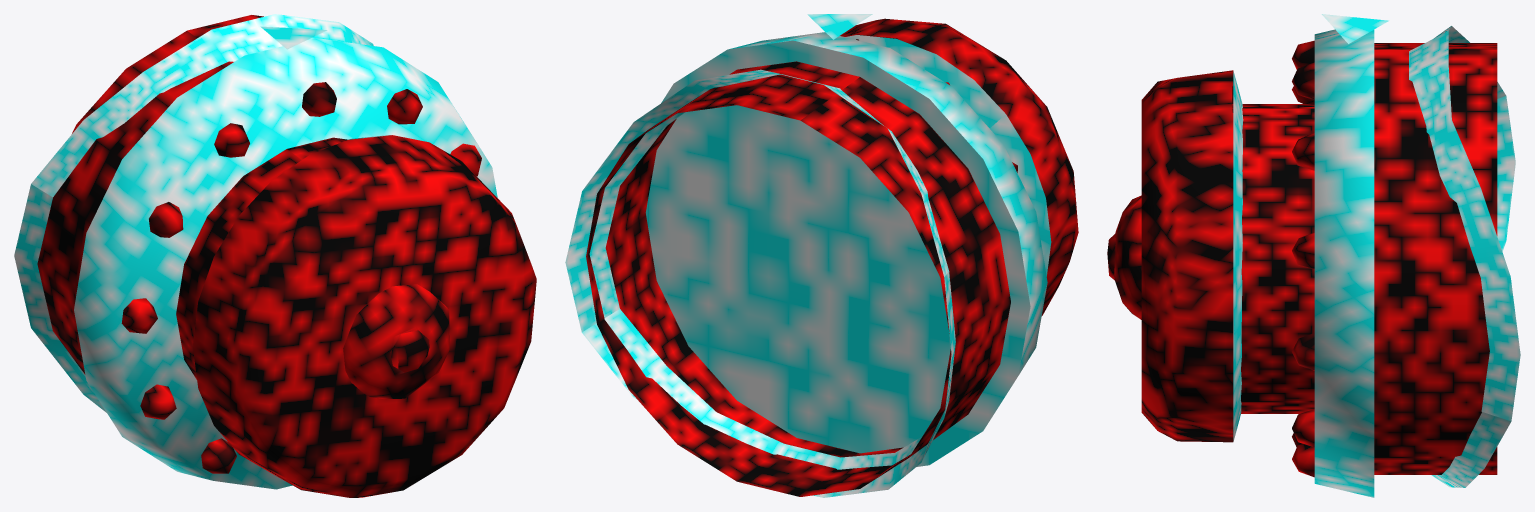
File: SM_Lift_Controller_01_KJS.fbx
3 views of the same model, side by side, from view 1: azimuth 30°, elevation 25°; view 2: azimuth 150°, elevation 25°; view 3: azimuth 270°, elevation 25° (orthographic). The views are drawn at different scales.
Visible parts, largest first — view 1: SM_Lift_Controller_01_KJS; view 2: SM_Lift_Controller_01_KJS; view 3: SM_Lift_Controller_01_KJS.
Part boxes in pixels (x1=…): SM_Lift_Controller_01_KJS: x1=14, y1=14, x2=536, y2=497; SM_Lift_Controller_01_KJS: x1=565, y1=14, x2=1078, y2=497; SM_Lift_Controller_01_KJS: x1=1107, y1=14, x2=1520, y2=497.
Bounding box in the file's own units: 19.91 × 20.59 × 17.15.
